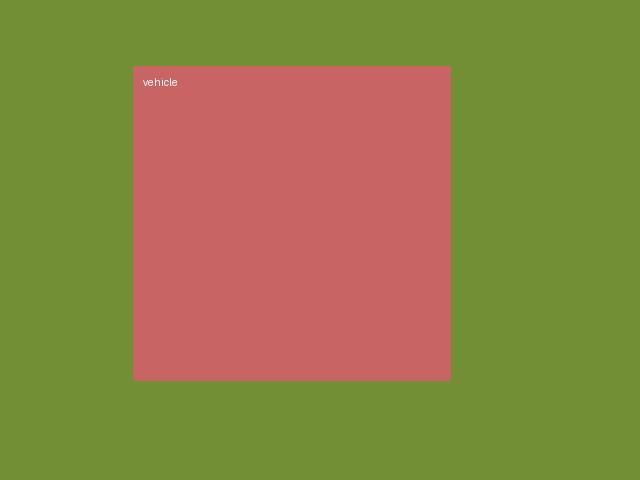vehicle: (133, 66, 450, 380)
